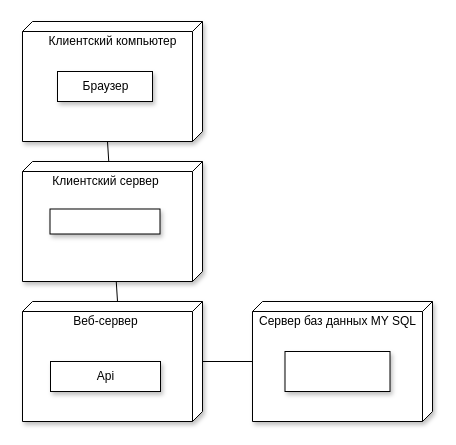
Image size: 456x445. Some labels were removed from this diagram. The centre of each missing label's shape, as x and y in pixels:
"Dist" goes at (x=105, y=222).
"note_shared" goes at (x=338, y=372).
